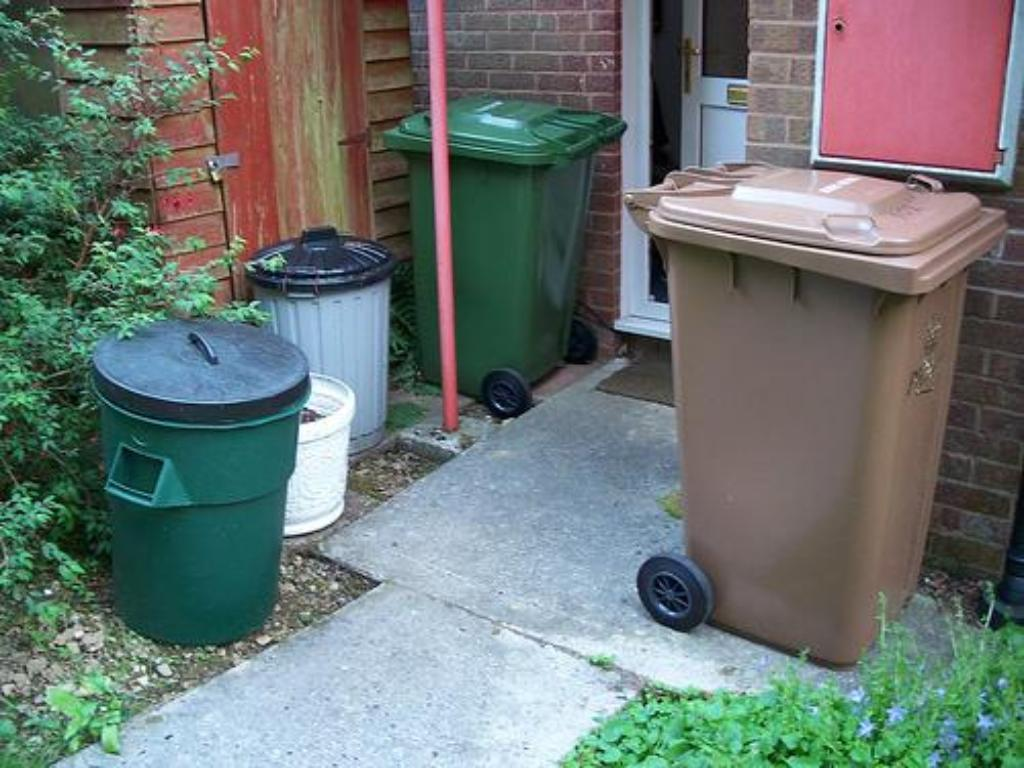dustbin: (641, 153, 991, 670), (85, 315, 339, 661), (402, 84, 616, 408), (241, 234, 409, 459)
